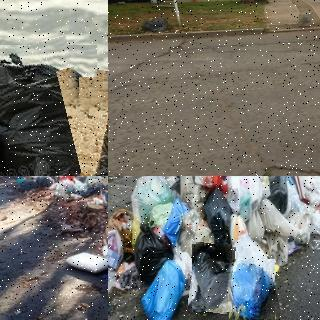Garbage: (0, 40, 108, 176), (71, 73, 108, 176), (225, 256, 278, 320), (190, 243, 234, 313), (140, 257, 185, 320), (132, 222, 174, 282), (202, 184, 233, 245), (139, 16, 171, 33), (32, 176, 58, 184)
